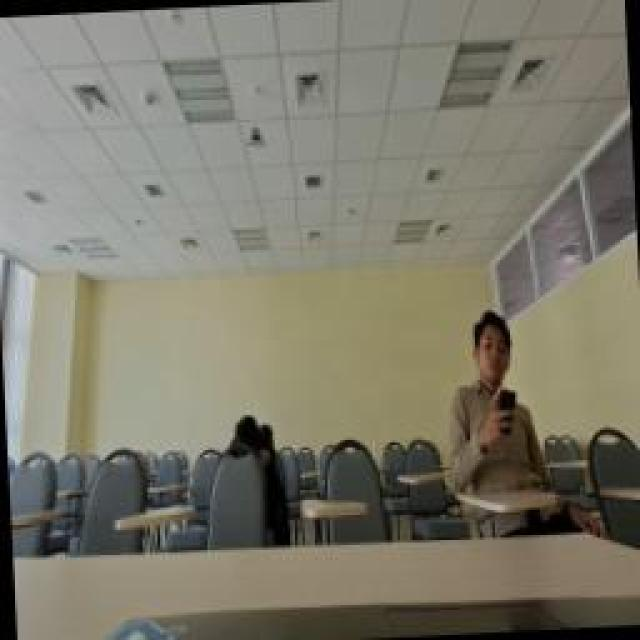phone: (442, 293, 548, 495)
sleep: (225, 408, 285, 502)
